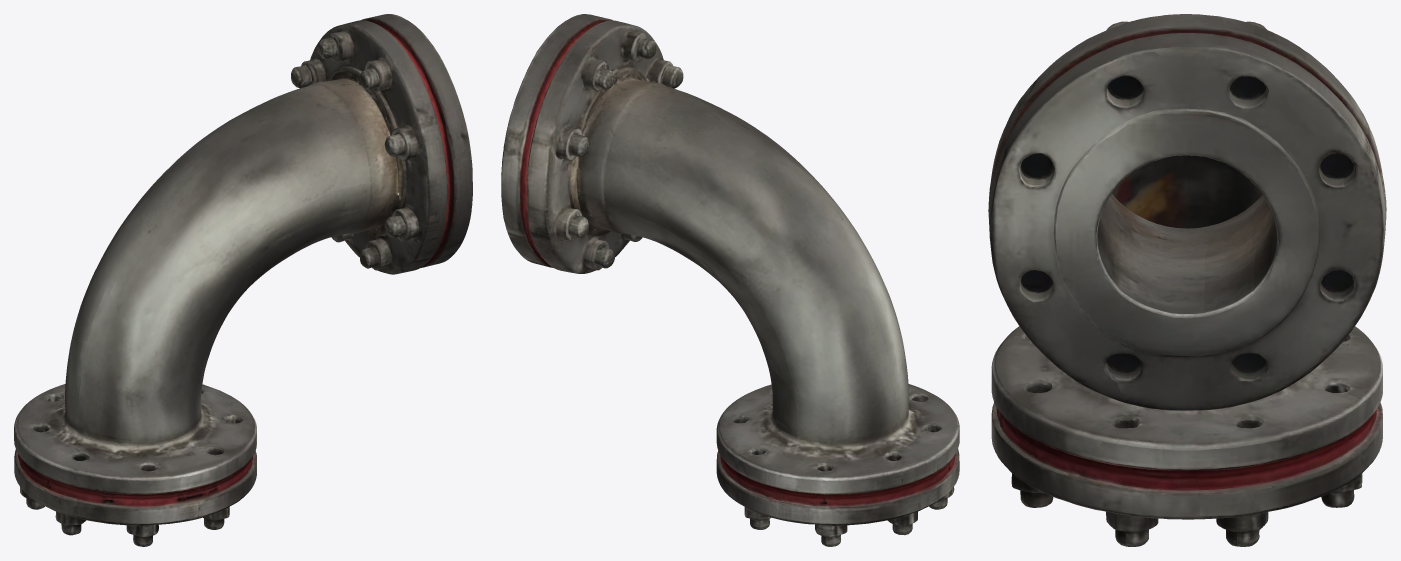
3 views of the same model, side by side, from view 1: azimuth 30°, elevation 25°; view 2: azimuth 150°, elevation 25°; view 3: azimuth 270°, elevation 25° (orthographic). The views are drawn at different scales.
Visible parts, largest first — view 1: geometry_0; view 2: geometry_0; view 3: geometry_0.
Part boxes in pixels (box(x1,y1,x2,y2)): geometry_0: box(14, 14, 472, 546); geometry_0: box(501, 14, 959, 546); geometry_0: box(988, 14, 1386, 546).
Size of the model in its own units: 0.45 by 0.4539 by 0.2541.
1 material, 1 textured.
